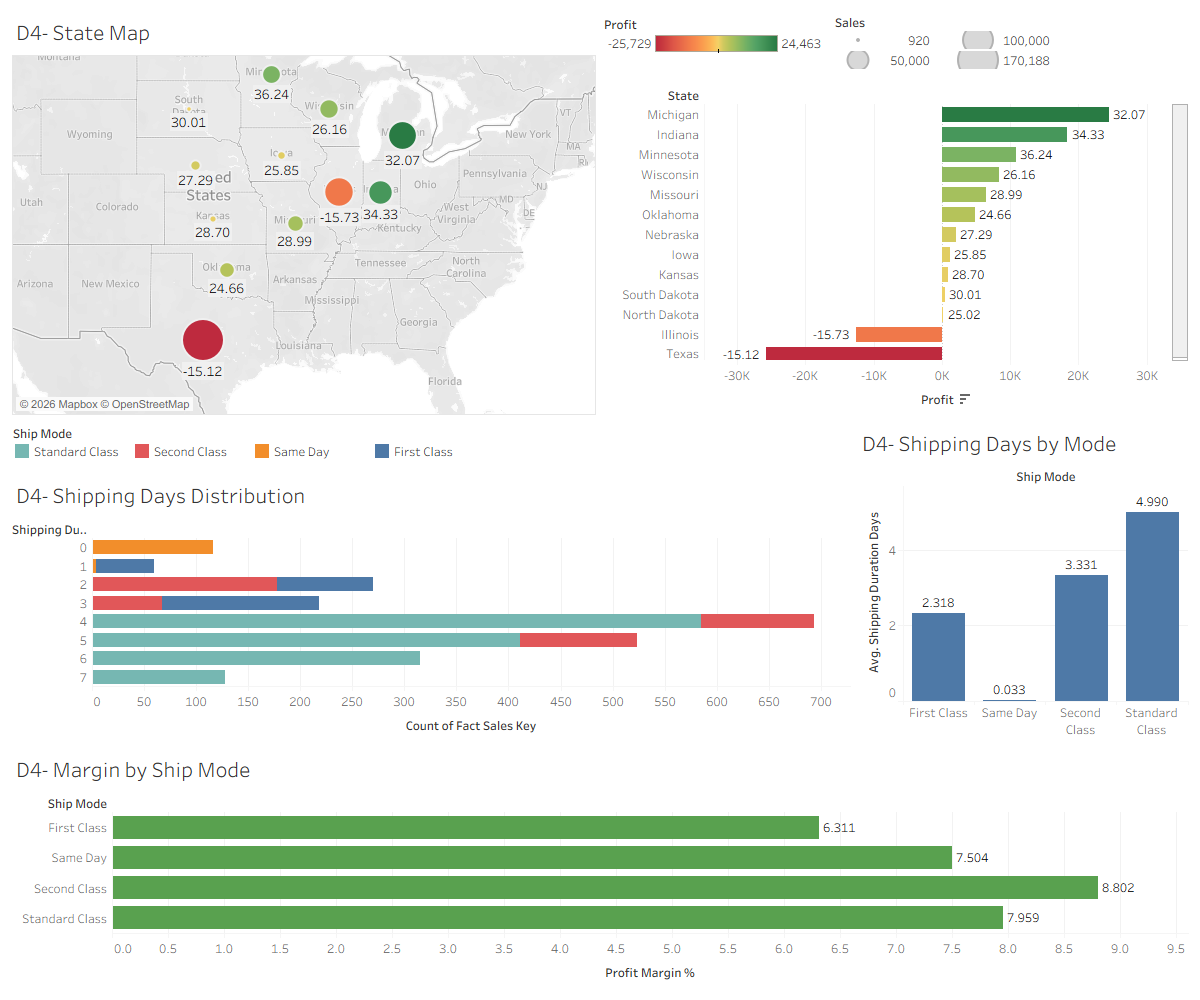

The page's visual inventory and layout, read from the dashboard file:
{"tool":"tableau","page":{"name":"D4- Operations & Geography","canvas":[1200,1000],"ordinal":3},"visuals":[{"type":"worksheet","title":"D4- State Map","mark":"Circle","box":[8,8,592,411]},{"type":"legend","title":"D4- State Map","param":"[federated.10387ro0izt5ks16vwlgk15n9znr].[sum:profit:qk]","box":[600,8,229.9,72]},{"type":"legend","title":"D4- State Map","param":"[federated.10387ro0izt5ks16vwlgk15n9znr].[sum:sales:qk]","box":[829.9,8,362.1,72]},{"type":"worksheet","title":"D4- State Ranking","mark":"Automatic","rows":["state"],"cols":["profit"],"box":[600,80,592,339]},{"type":"legend","title":"D4- Shipping Days Distribution","param":"[federated.10387ro0izt5ks16vwlgk15n9znr].[none:ship_mode:nk]","box":[8,419,846.3,52]},{"type":"worksheet","title":"D4- Shipping Days by Mode","mark":"Automatic","rows":["shipping_duration_days"],"cols":["ship_mode"],"box":[854.3,419,337.7,325.7]},{"type":"worksheet","title":"D4- Shipping Days Distribution","mark":"Automatic","rows":["Shipping Duration Days (bin)"],"cols":["fact_sales_key"],"box":[8,471,846.3,273.7]},{"type":"worksheet","title":"D4- Margin by Ship Mode","mark":"Automatic","rows":["ship_mode"],"cols":["Calculation_0299118397710338"],"box":[8,744.7,1184,247.3]}]}

Visuals, with their boxes in screenshot pixels (x1, y1, x2, y2), scaled from the page's 1200x1000 canvas onto the 1200x1000 screenshot:
"D4- State Map" worksheet (Circle marks): [8, 8, 600, 419]
"D4- State Map" legend: [600, 8, 830, 80]
"D4- State Map" legend: [830, 8, 1192, 80]
"D4- State Ranking" worksheet: [600, 80, 1192, 419]
"D4- Shipping Days Distribution" legend: [8, 419, 854, 471]
"D4- Shipping Days by Mode" worksheet: [854, 419, 1192, 745]
"D4- Shipping Days Distribution" worksheet: [8, 471, 854, 745]
"D4- Margin by Ship Mode" worksheet: [8, 745, 1192, 992]
